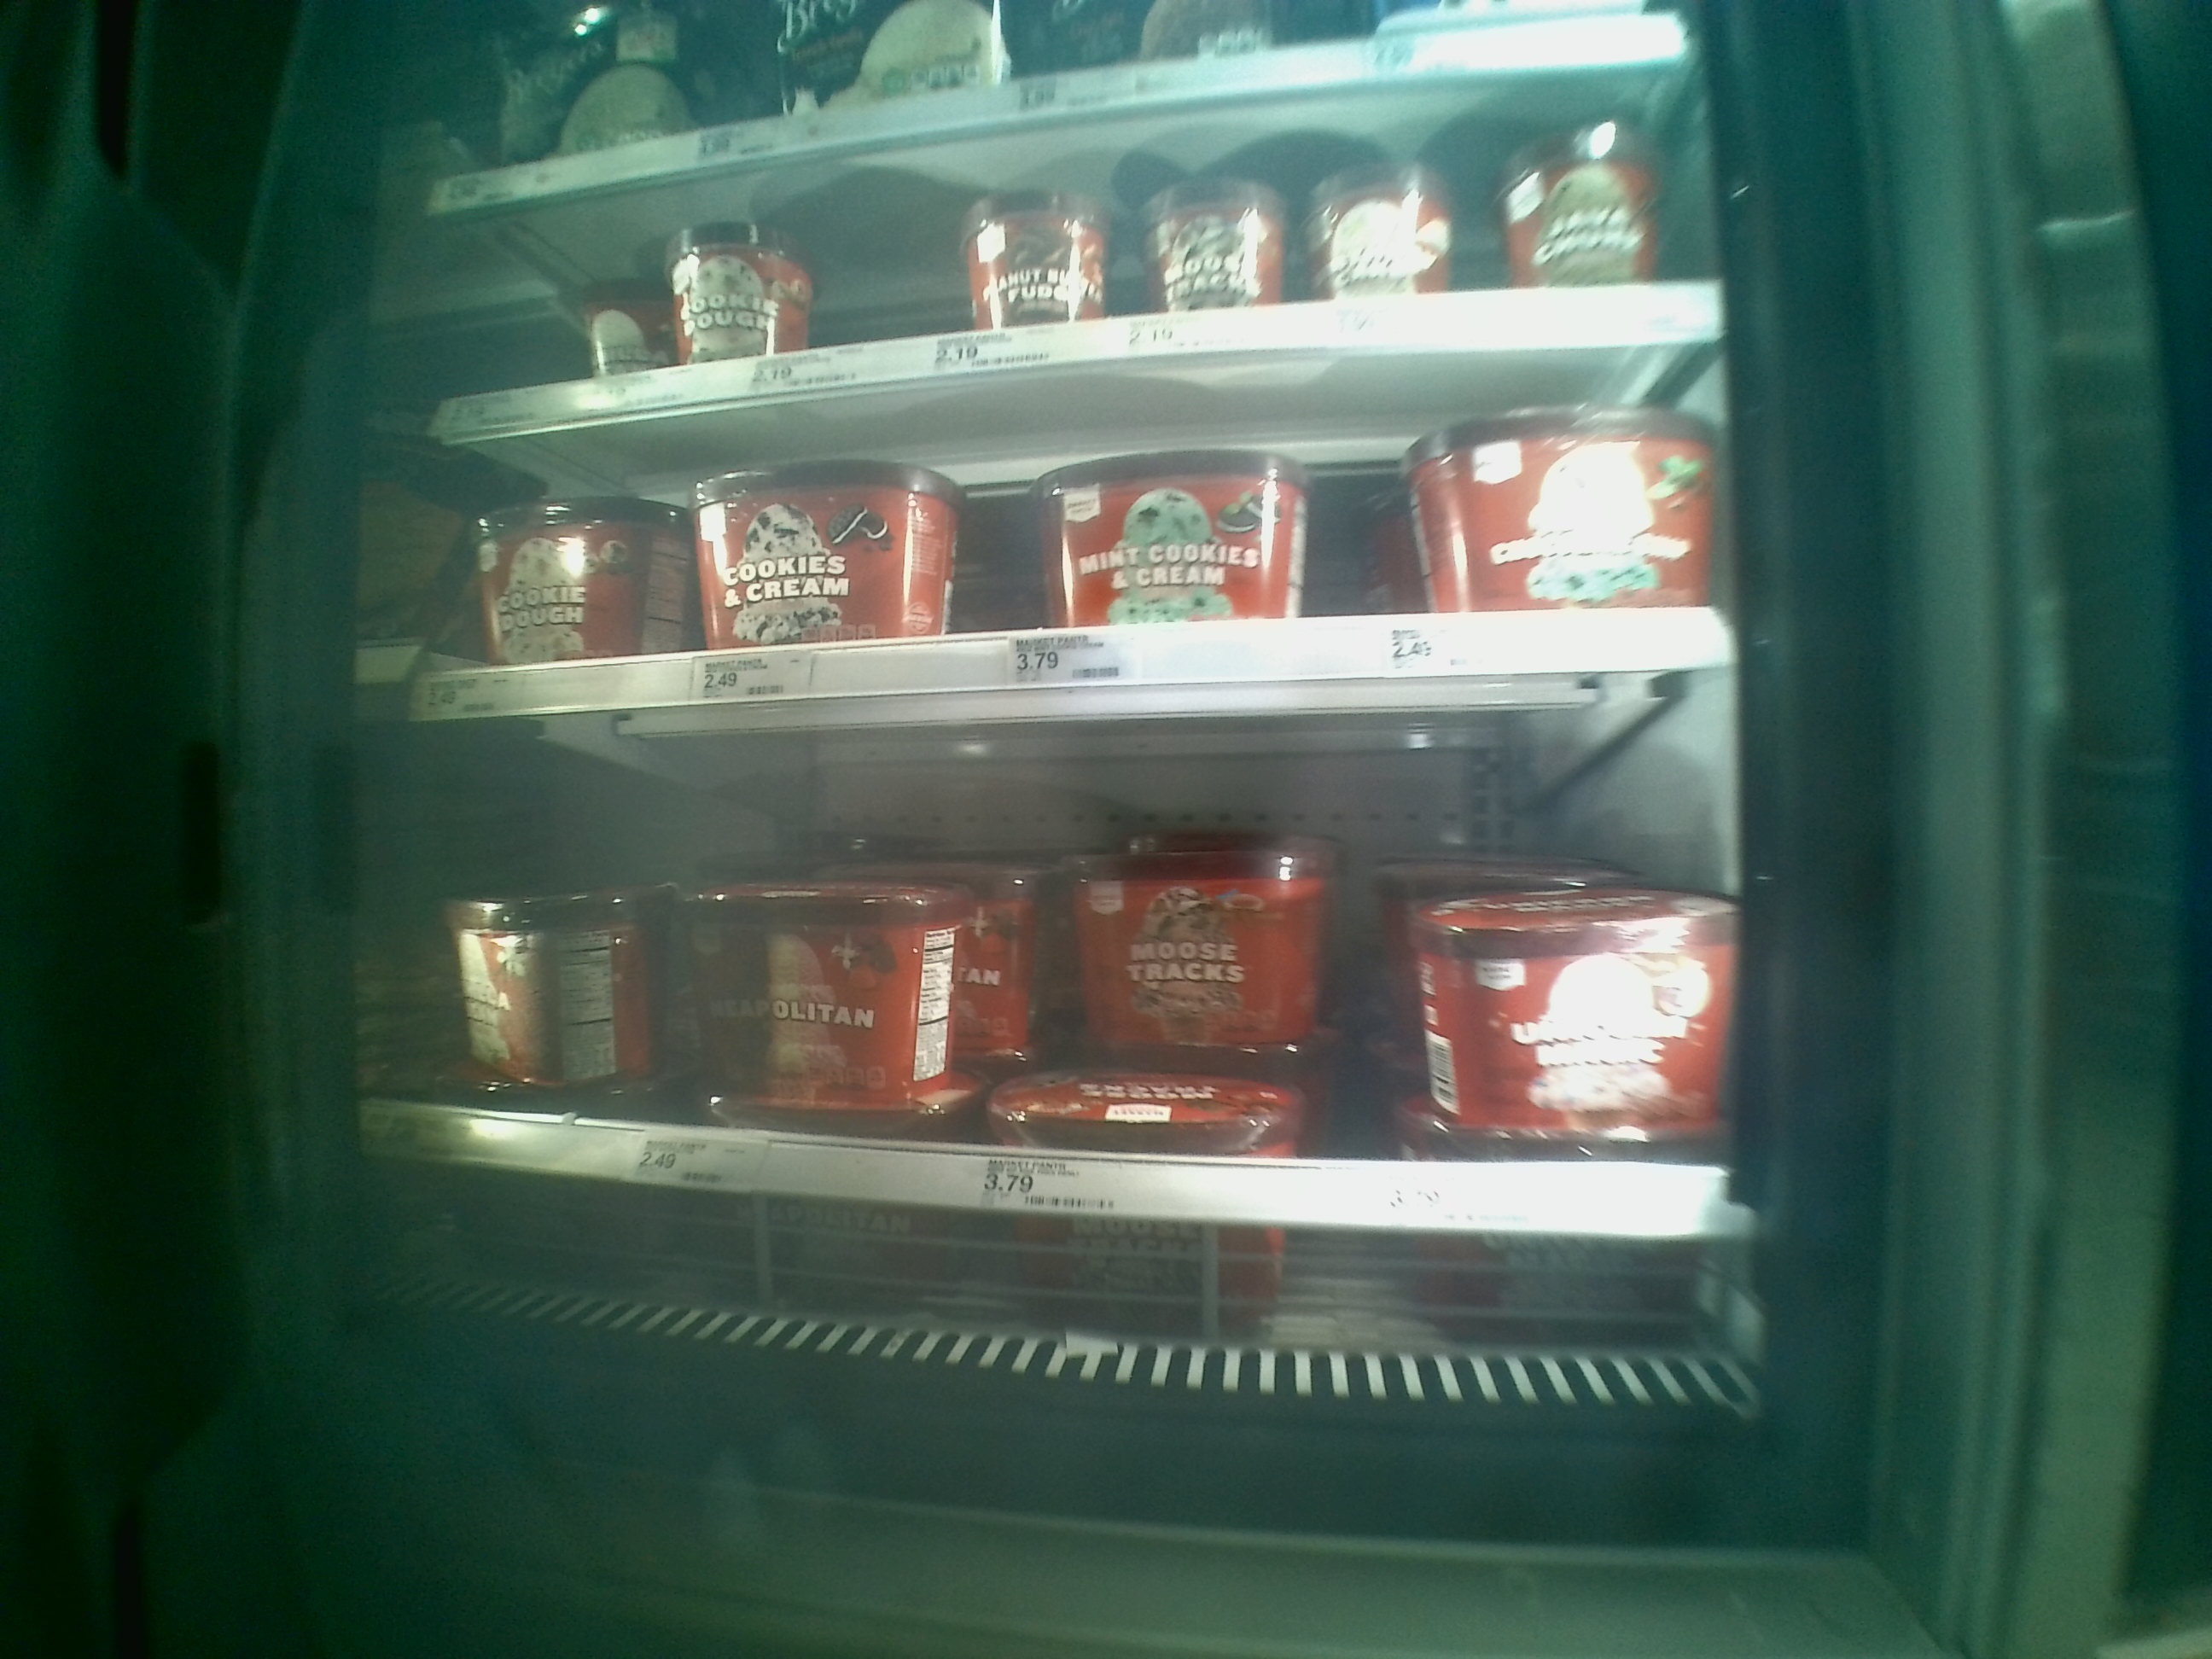shelf: (408, 727, 1740, 1249), (425, 399, 1724, 685)
